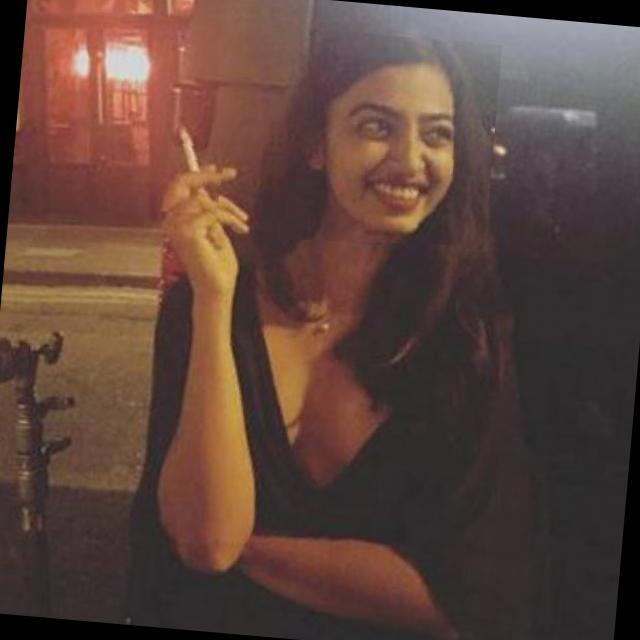cigarette: (158, 106, 232, 217)
